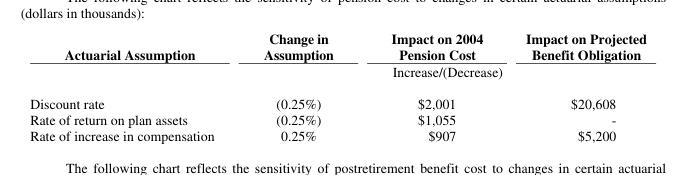table: (29, 28, 645, 143)
table column: (29, 28, 238, 143), (361, 28, 503, 143), (503, 28, 645, 143), (238, 28, 361, 143)
table column header: (29, 28, 645, 86)
table row: (29, 28, 645, 62), (29, 62, 645, 86), (29, 86, 645, 110), (29, 126, 645, 143), (29, 110, 645, 126)
table spanning cell: (29, 28, 238, 86), (238, 62, 645, 86)
